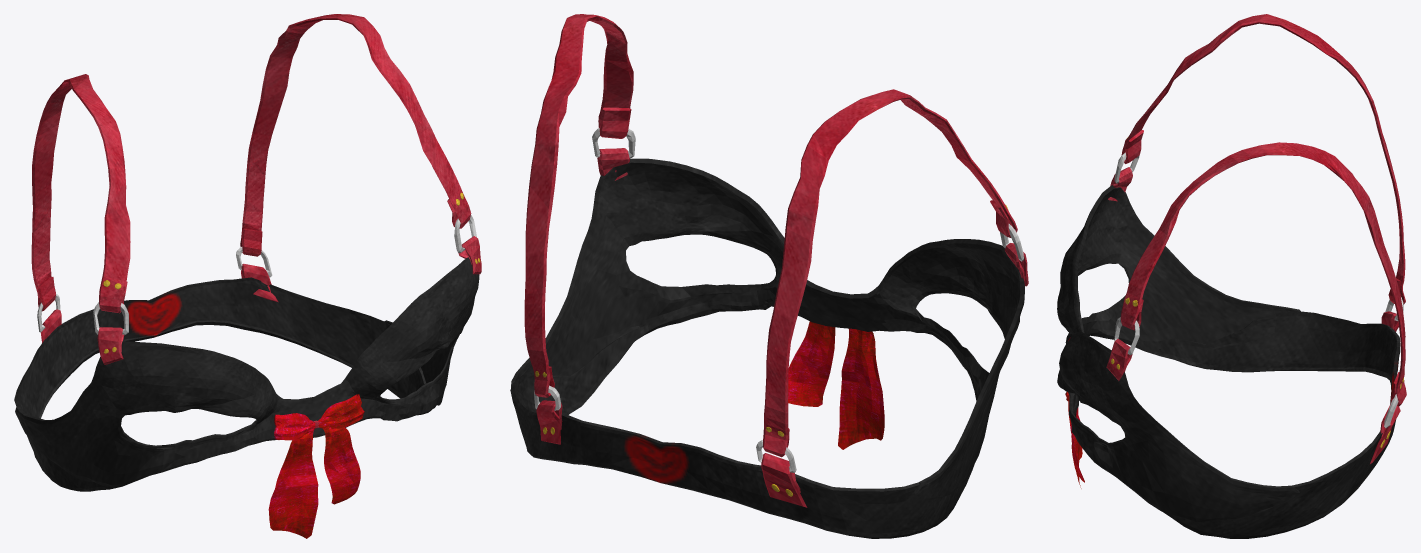
Rendered from mhw_elvs_bow_front_bra.glb.
The picture shows the model from 3 angles, left to right: view 1: azimuth 30°, elevation 25°; view 2: azimuth 150°, elevation 25°; view 3: azimuth 270°, elevation 25°; orthographic projection. The views are drawn at different scales.
Visible parts, largest first — view 1: mhw_elvs_bow_front_bra; view 2: mhw_elvs_bow_front_bra; view 3: mhw_elvs_bow_front_bra.
Boxes of the visible parts, <box> form: mhw_elvs_bow_front_bra: <box>14,14,481,538</box>; mhw_elvs_bow_front_bra: <box>510,14,1028,538</box>; mhw_elvs_bow_front_bra: <box>1057,14,1406,538</box>.
Size of the model in its own units: 0.3371 by 0.3513 by 0.2706.
1 material, 1 textured.
